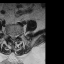CCS_normal: (12, 33, 14, 42)
LFS_normal: (16, 32, 18, 38)
LLS_normal: (14, 33, 16, 40)
RFS_normal: (9, 31, 11, 38)
RLS_normal: (11, 32, 12, 40)
